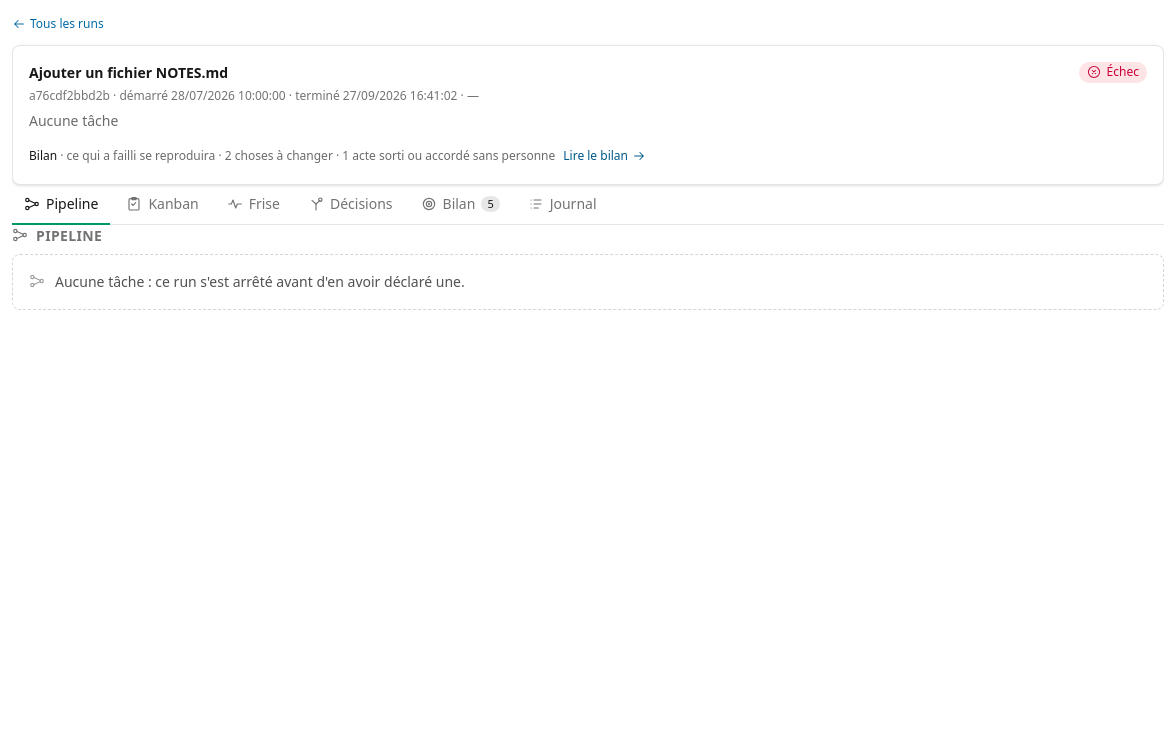
Test: les pièces d'un constat › s'ouvrent toutes ensemble d'un constat, sans le déplier
The width and height of the screenshot is (1176, 732).
Click the button "Bilan 5" at (460, 205), box x1=408 y1=185 x2=512 y2=225
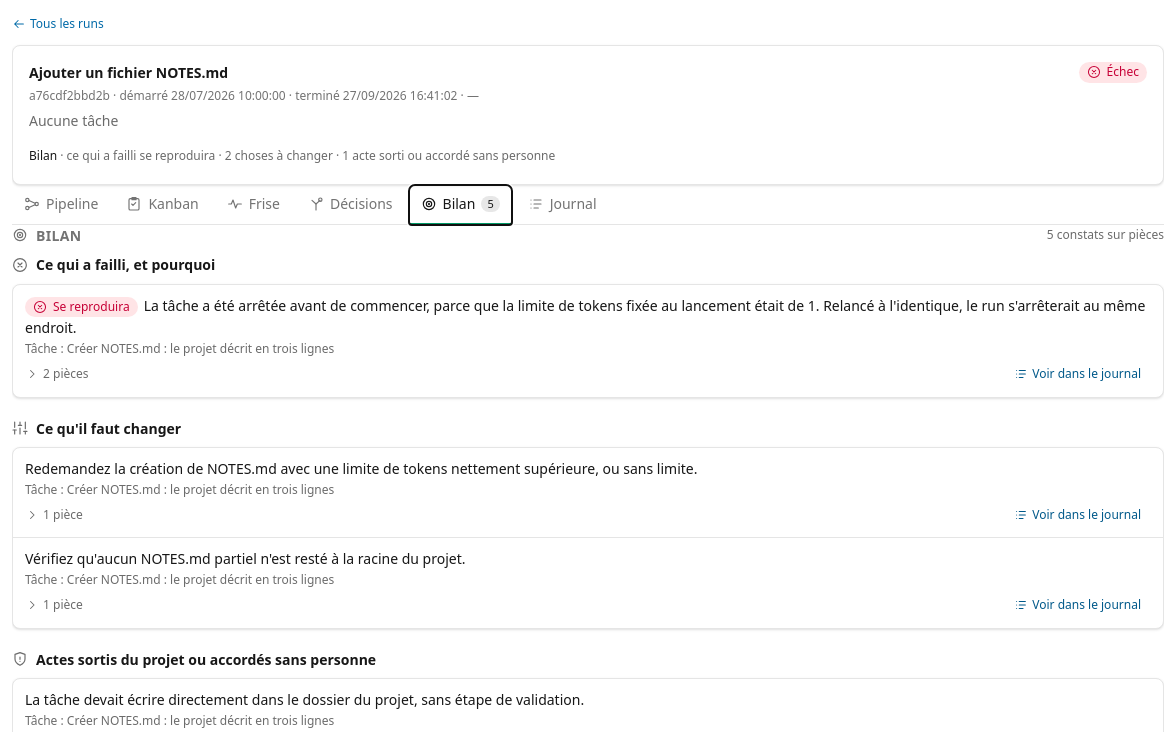
Click the 1st button "Voir dans le journal" at (1078, 374), box x1=1004 y1=362 x2=1151 y2=387
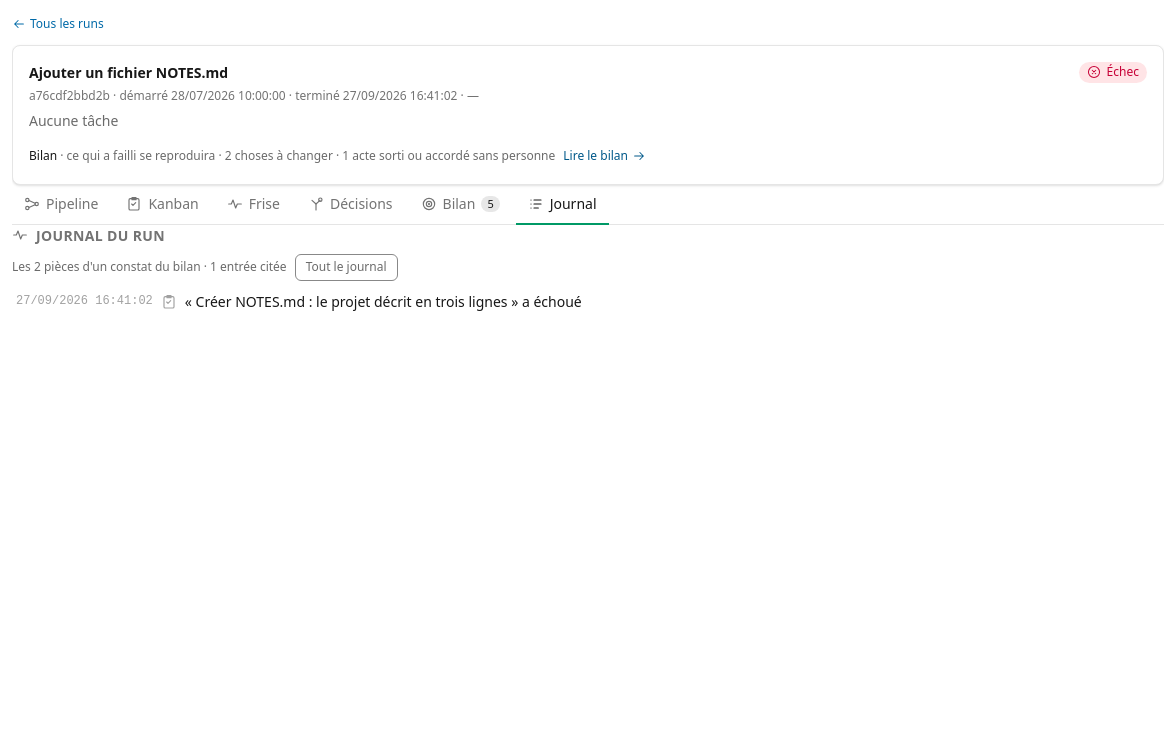
Expected: the text "Les 2 pièces d'un constat du bilan · 1 entrée citée" is shown, x1=12 y1=259 x2=287 y2=276
